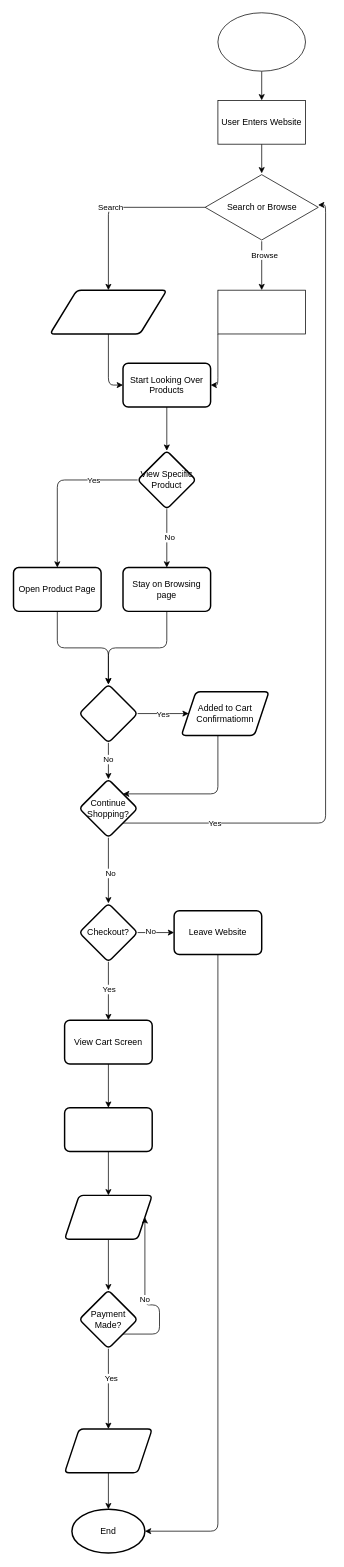
This 344x1567 diagram has some shape labels left out. The centre of each missing label's shape, as x and y in pixels:
"Add to Cart?" goes at (x=108, y=713).
"Enter Payment Informtaion" goes at (x=108, y=1217).
"Order Confirmation Screen and Email" goes at (x=108, y=1450).
"Show Home Page Items" goes at (x=261, y=311).
"Start" goes at (x=261, y=41).
"User enters what they want to search for" goes at (x=108, y=311).
"View Payment Screen" goes at (x=108, y=1129).
